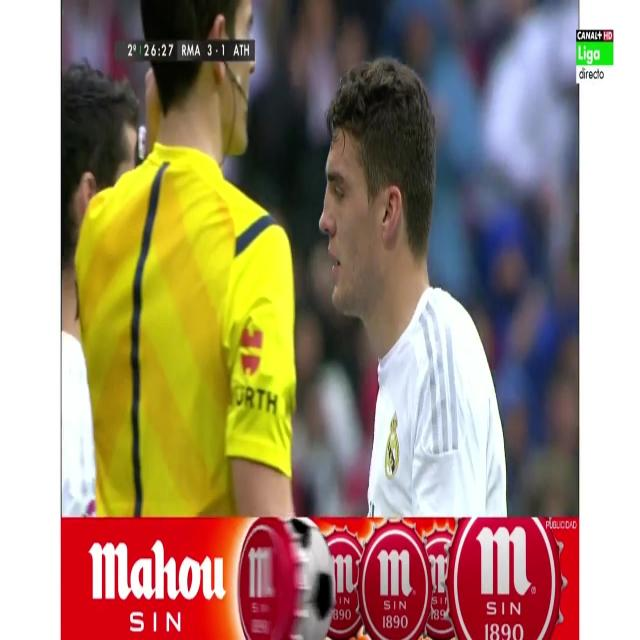Player: (318, 45, 509, 518)
Referee: (73, 0, 300, 518)
